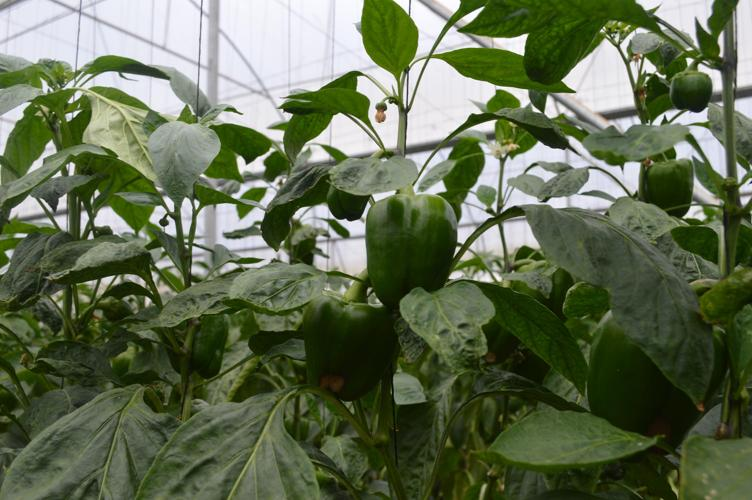BellPepper: (580, 313, 719, 438), (302, 294, 401, 404), (362, 194, 451, 288), (172, 312, 226, 373), (648, 160, 693, 216), (662, 72, 715, 116)
